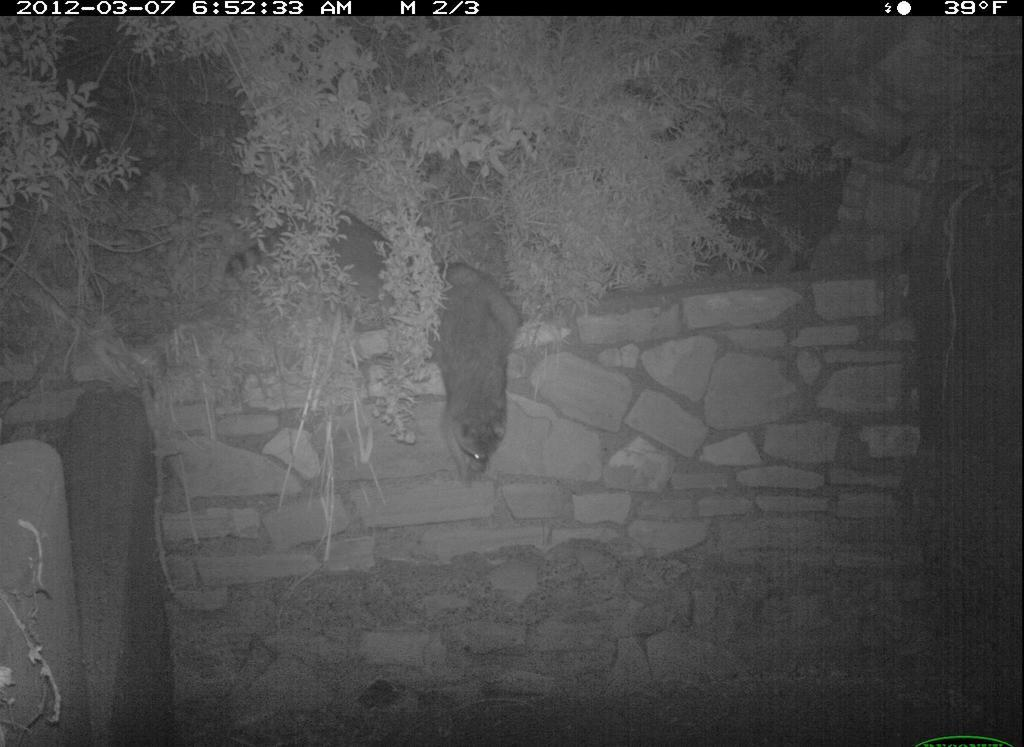raccoon: (218, 175, 410, 335), (427, 263, 533, 486)
